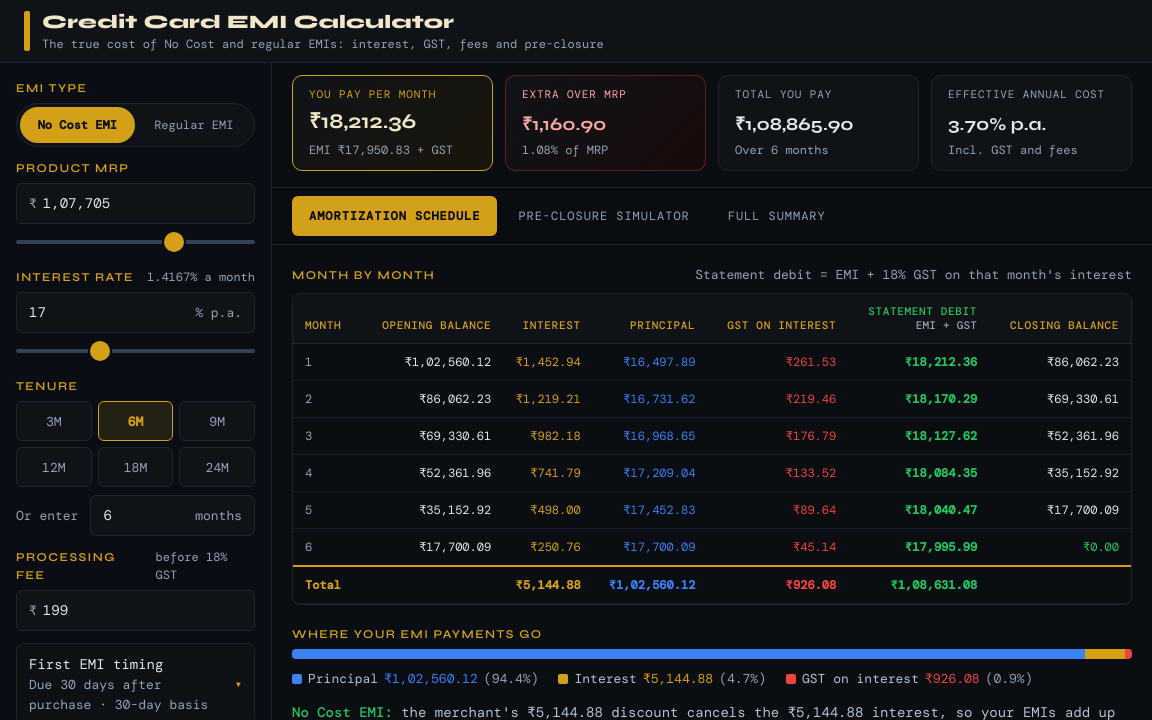
it: number fields keep the user's draft › flags tenure above the maximum and clamps it on blur
Replace the text in the field named "Or enter tenure in months" with "124" at (146, 516), box [103, 496, 189, 535]
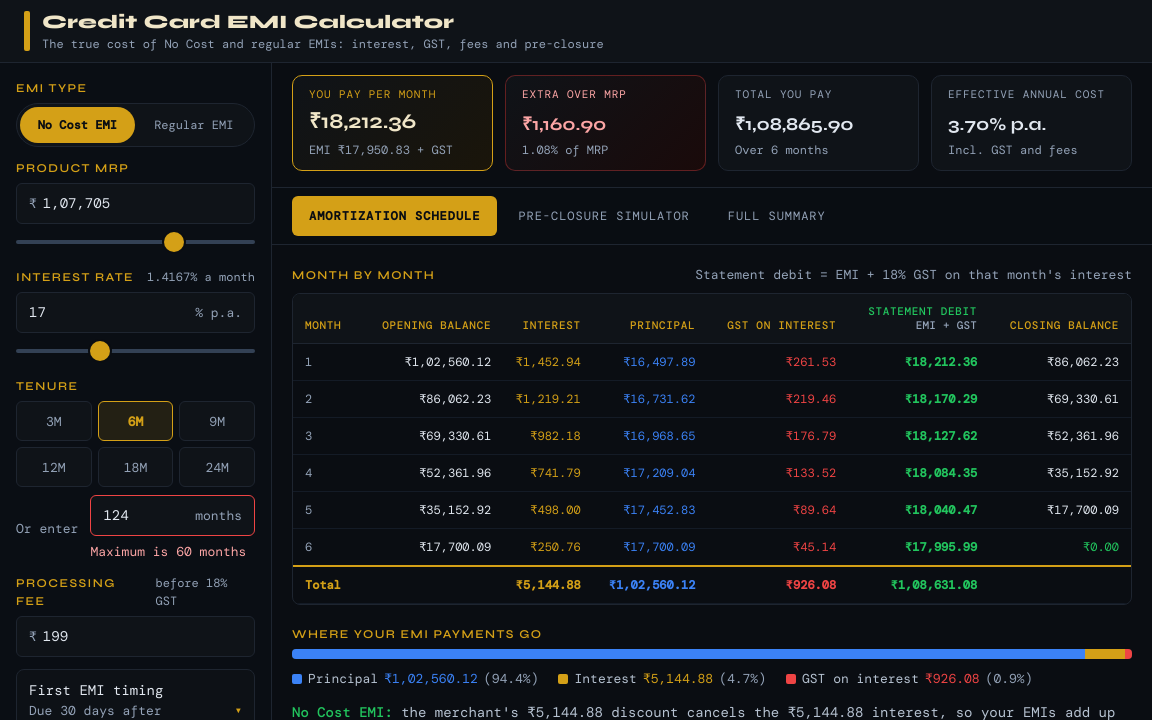
Expected: the text "Maximum is 60 months" is shown, [90, 542, 255, 562]
Leave the field named "Or enter tenure in months", box [103, 496, 189, 535]
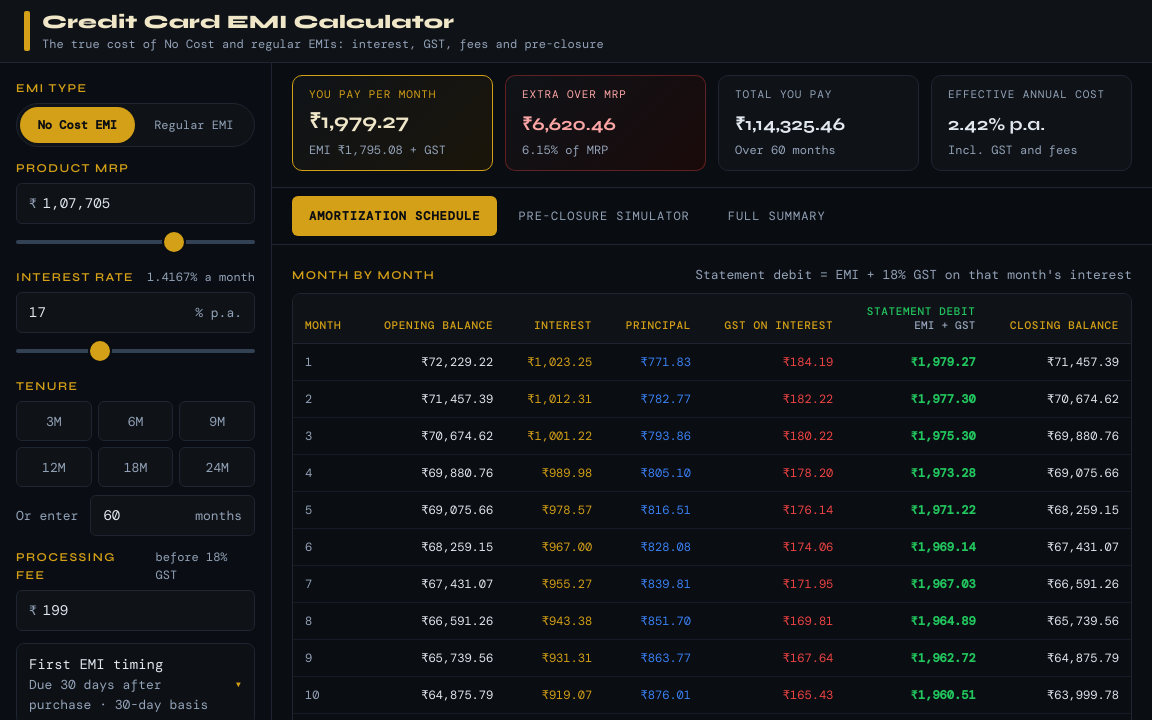
Expected: the field named "Or enter tenure in months" holds "60", [103, 496, 189, 535]
